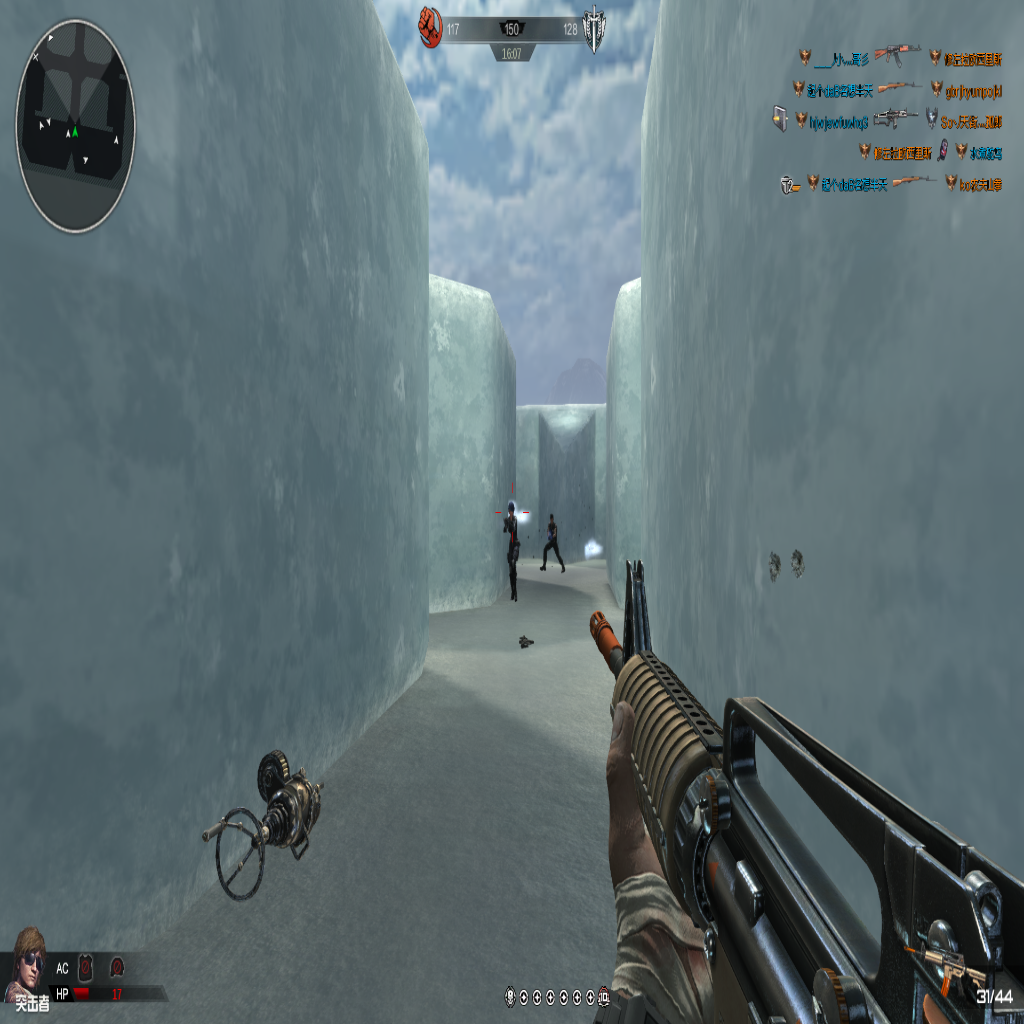ct: (500, 498, 521, 604), (540, 510, 566, 575)
